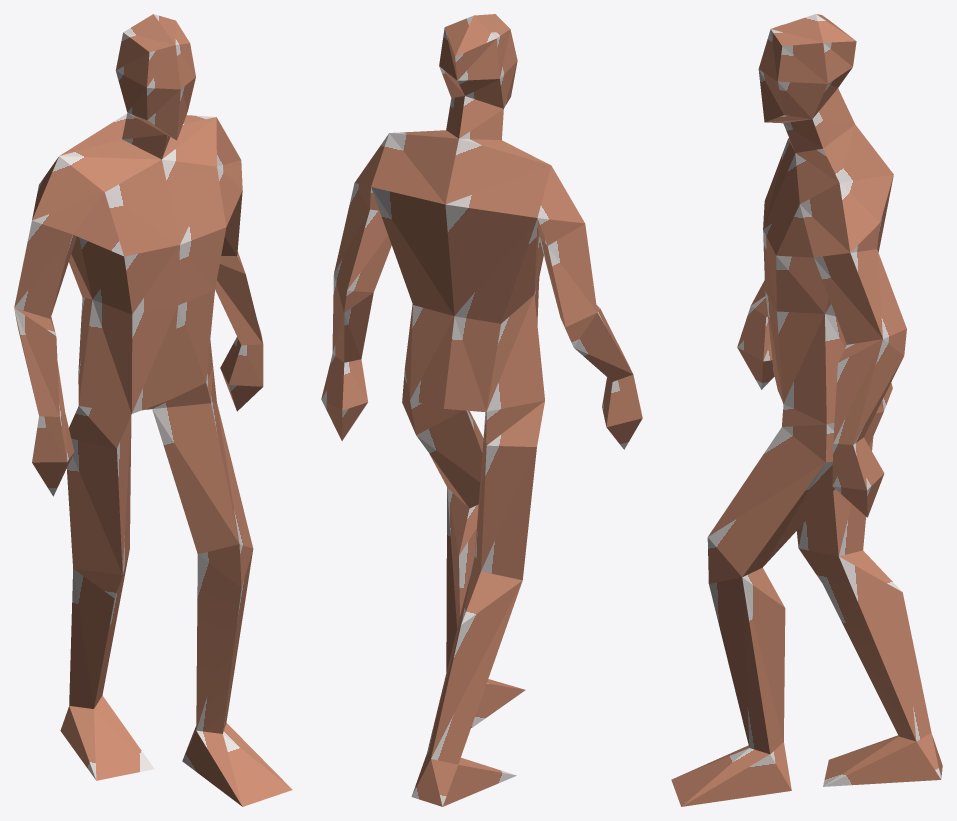
The picture shows the model from 3 angles, left to right: view 1: azimuth 30°, elevation 25°; view 2: azimuth 150°, elevation 25°; view 3: azimuth 270°, elevation 25°; orthographic projection. The views are drawn at different scales.
Visible parts, largest first — view 1: Default; view 2: Default; view 3: Default.
Boxes of the visible parts, <box> form: Default: <box>14,14,292,806</box>; Default: <box>321,14,642,806</box>; Default: <box>671,14,942,806</box>.
Bounding box in the file's own units: 0.8343 × 2.18 × 0.6957.
